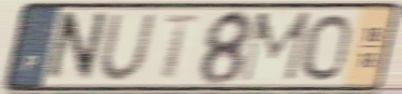8: (198, 7, 257, 88)
M: (237, 9, 314, 85)
N: (41, 9, 111, 86)
O: (299, 11, 354, 83)
T: (160, 13, 203, 82)
U: (97, 12, 159, 84)
